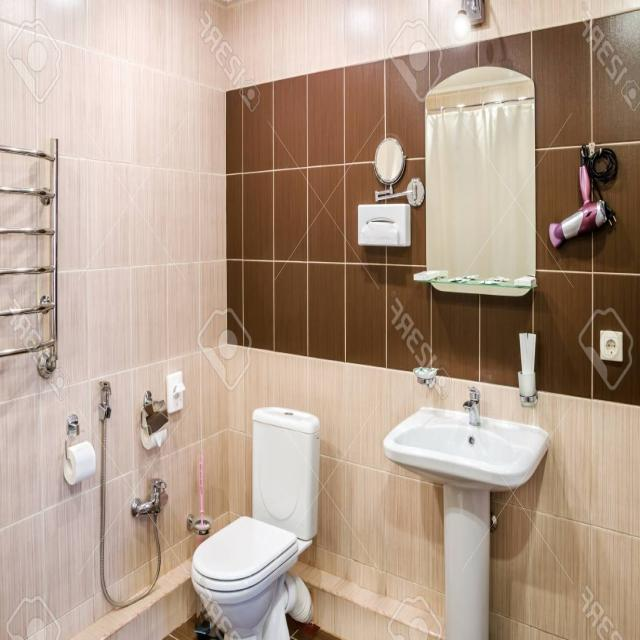dryer: (545, 143, 620, 261)
